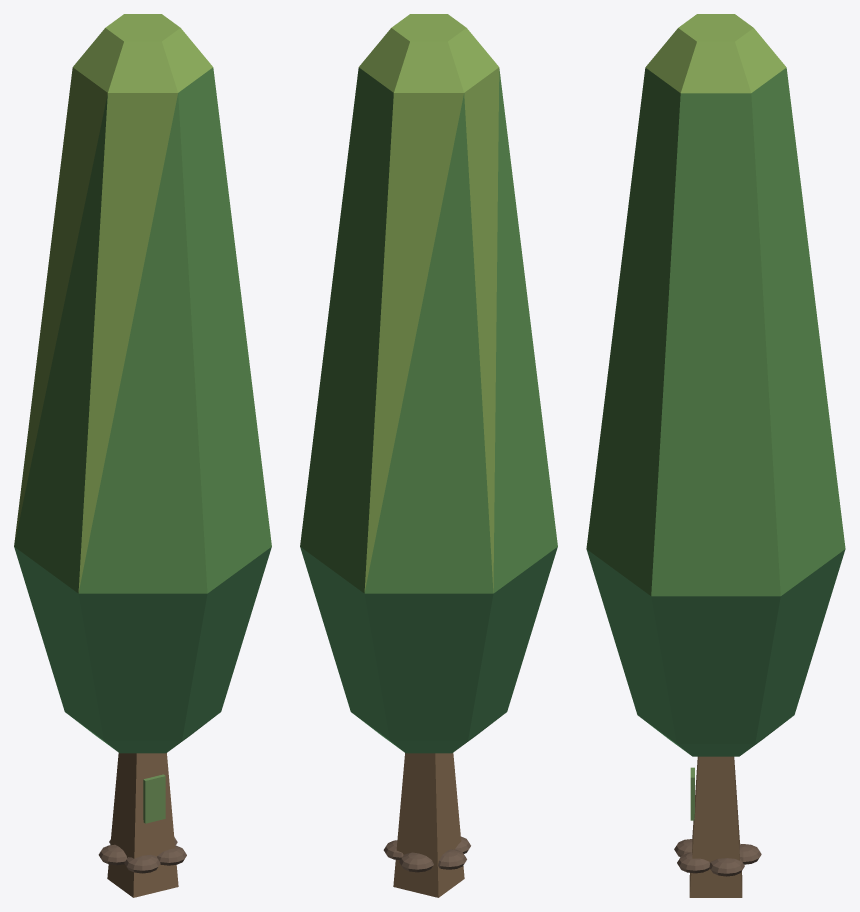
File: tree_tall.glb
The picture shows the model from 3 angles, left to right: view 1: azimuth 30°, elevation 25°; view 2: azimuth 150°, elevation 25°; view 3: azimuth 270°, elevation 25°; orthographic projection.
Visible parts, largest first — view 1: tree_tall; view 2: tree_tall; view 3: tree_tall.
Boxes of the visible parts, x1,y1,x2,y2 form: tree_tall: (14,14,271,897); tree_tall: (300,14,557,897); tree_tall: (586,14,845,897).
Bounding box in the file's own units: 0.3996 × 1.69 × 0.4614.
